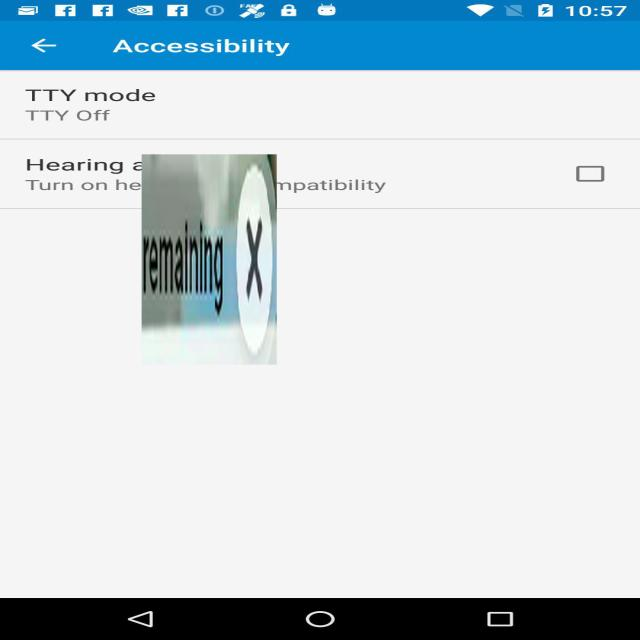misdirection: (142, 154, 276, 365)
